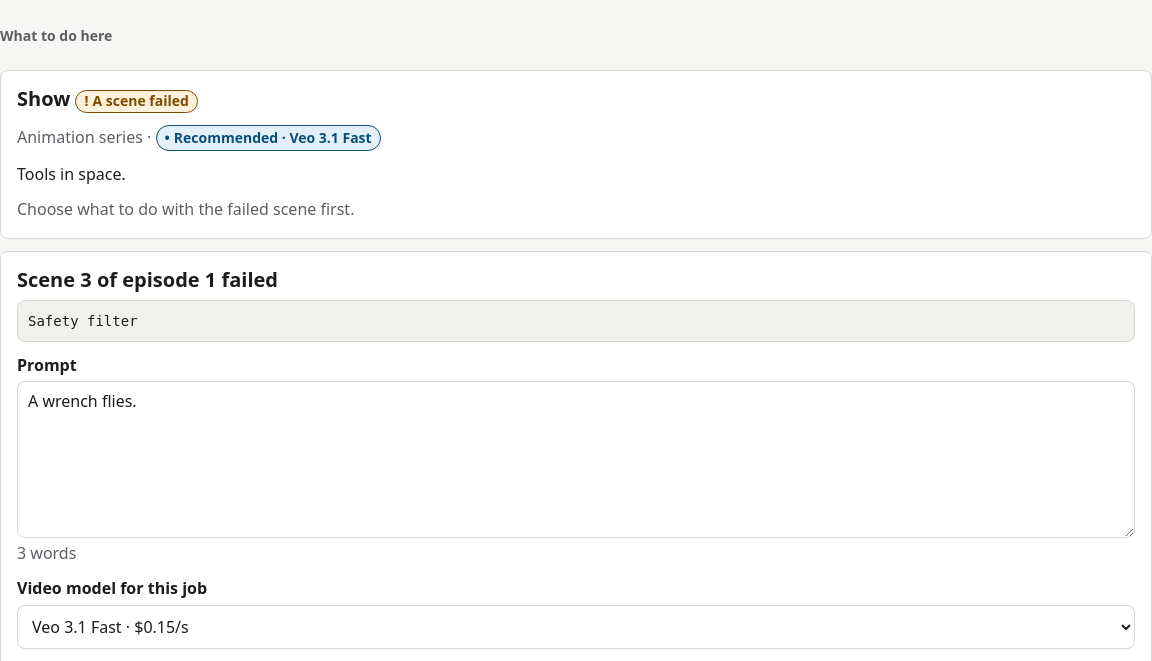
it: Story jobs › decides a failed scene, then shows the new estimate (F15)
The image size is (1152, 661).
Check: the heading "Scene 3 of episode 1 failed" is shown, box [17,266,278,293]
Check: the text "Safety filter" is shown, box [17,300,1135,342]
Select "Veo 3.1 Lite · $0.05/s" in the dropdown labelled "Video model for this job" at (576, 627), box [17,605,1135,649]
(page scrolled)
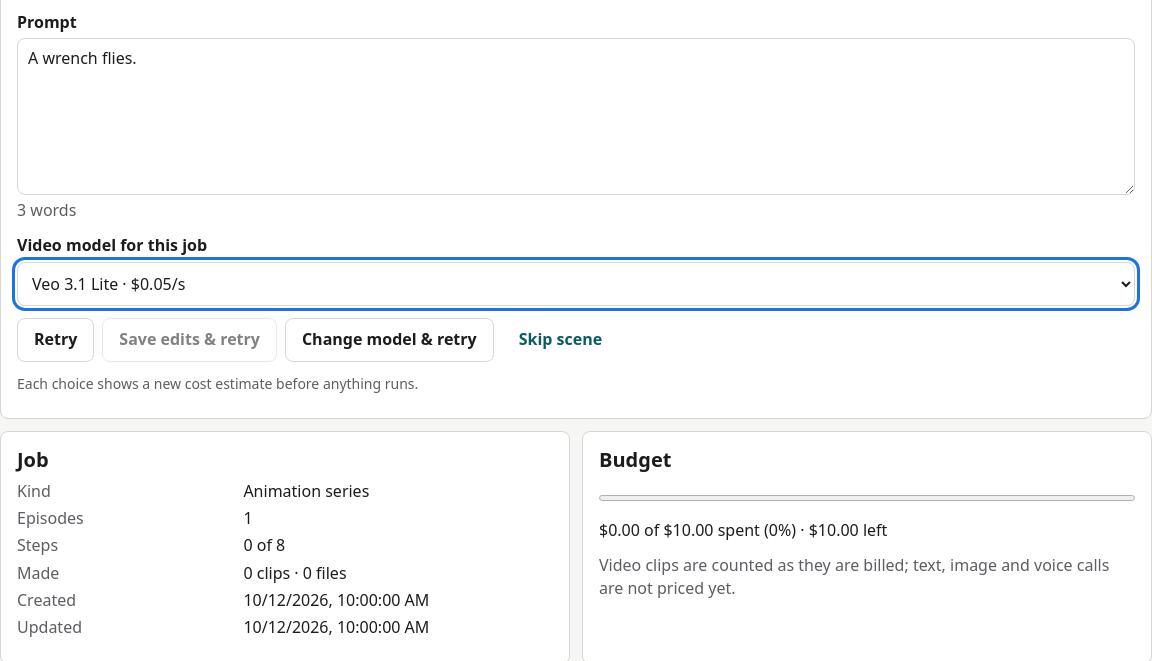
Click the button "Change model & retry" at (389, 340), box [285,318,494,362]
(page scrolled)
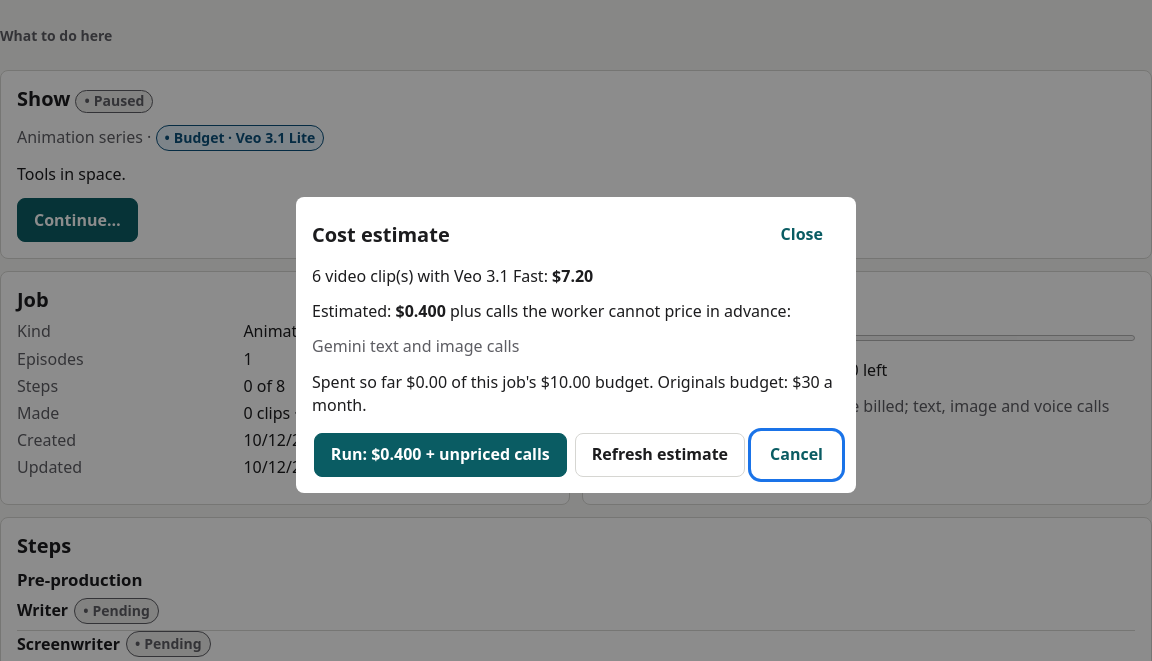
Check: the element with test id "story-estimate" shows "$0.400", box [396,300,446,322]
